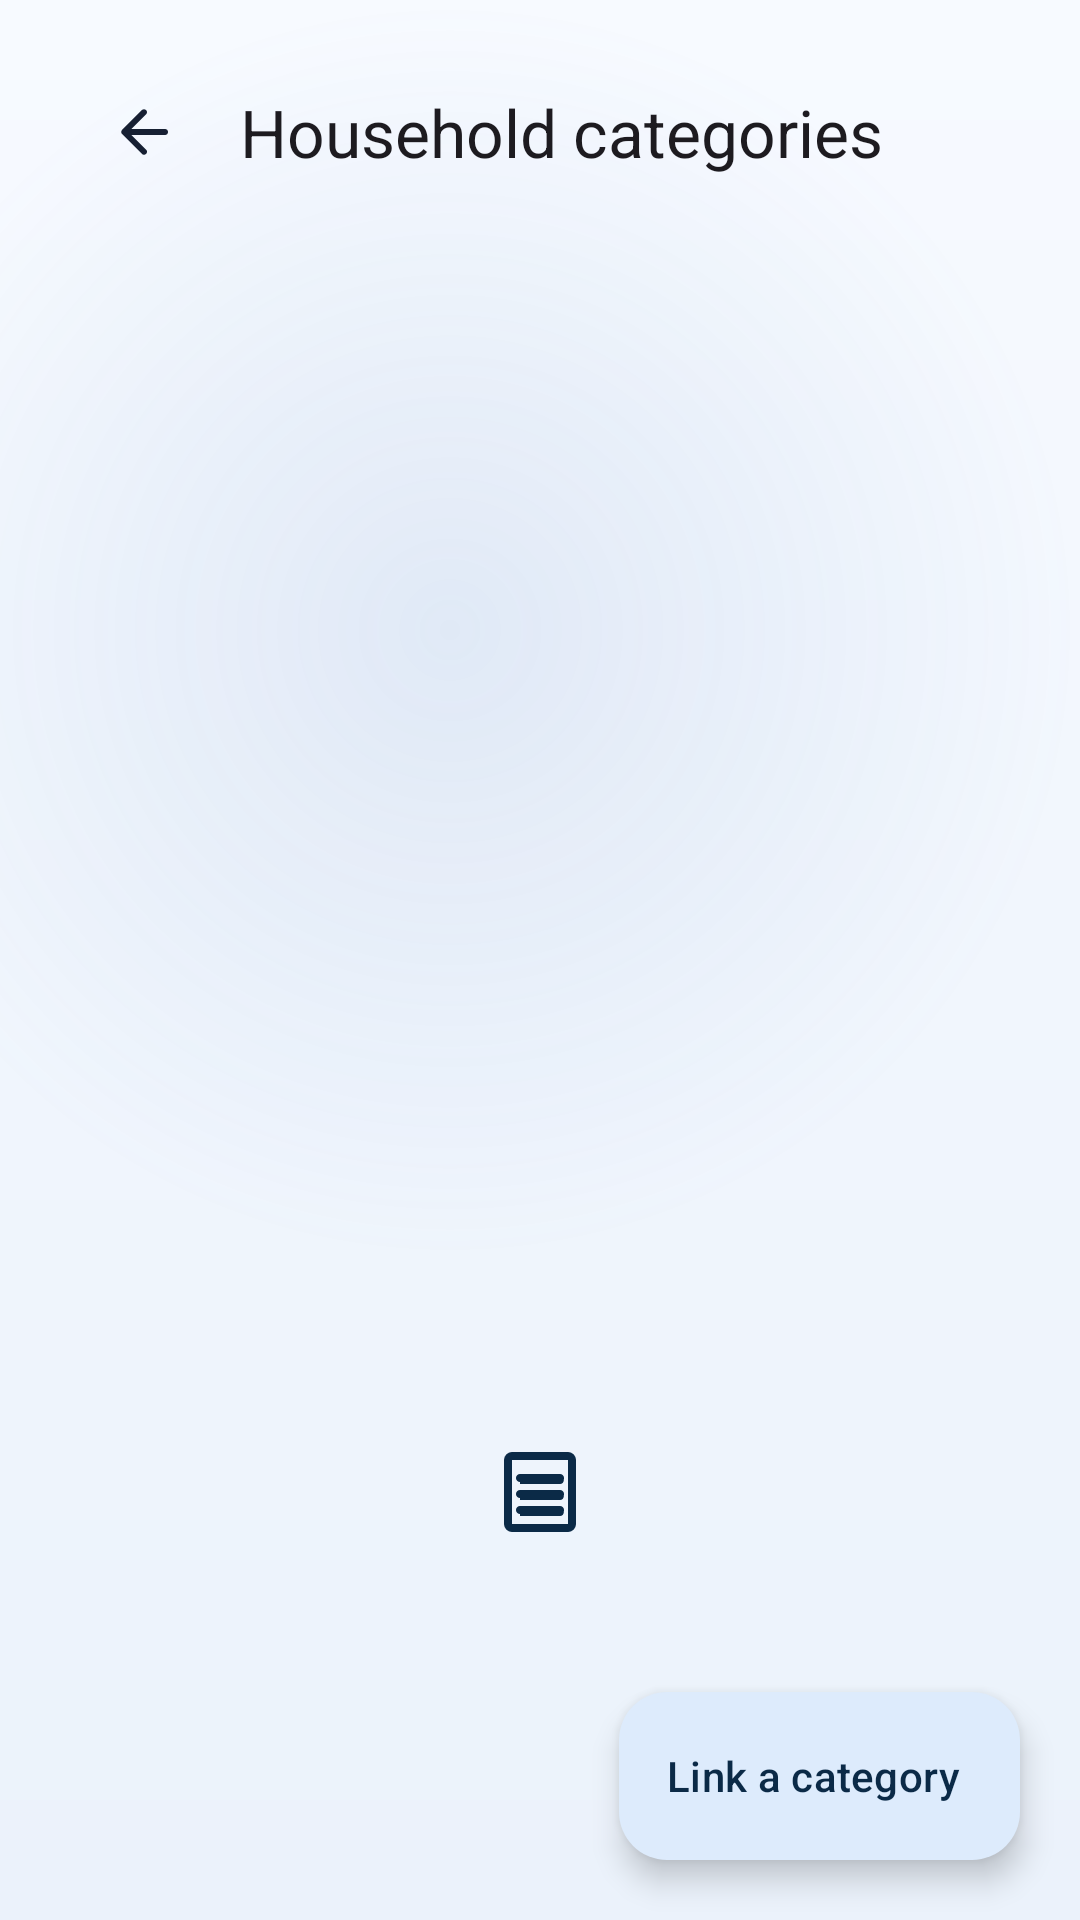

Named icons in this screenshot (1080px×1920px) and their centers, (x,y):
transactions: (540,1492)
